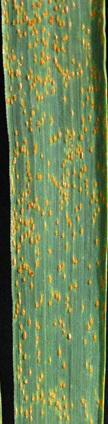Wheat: (18, 4, 95, 423)
